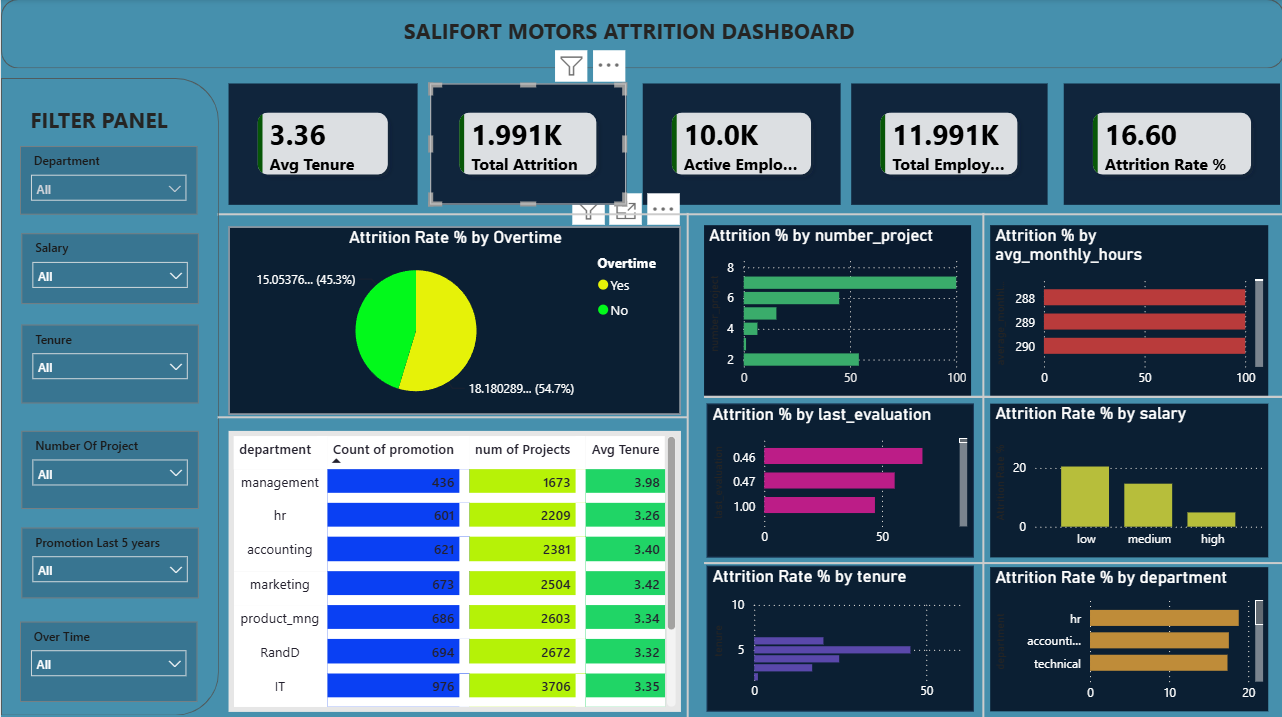

This screenshot's page, from the dashboard's own definition file:
{"tool":"powerbi","page":{"name":"Page 1","canvas":[1280,720],"ordinal":0},"visuals":[{"type":"cardVisual","fields":{"Data":["public Salifort Sales.Avg Tenure (Years)"]},"box":[227,84.3,189,121],"z":0},{"type":"cardVisual","fields":{"Data":["public Salifort Sales.Attrition Rate %"]},"box":[1060.3,84.3,216.1,121],"z":1000},{"type":"cardVisual","fields":{"Data":["public Salifort Sales.Total Attrition"]},"box":[428.2,84.3,195.8,121],"z":2000},{"type":"cardVisual","fields":{"Data":["public Salifort Sales.Active Employees"]},"box":[640.3,84.3,197.1,121],"z":3000},{"type":"cardVisual","fields":{"Data":["public Salifort Sales.Total Employees"]},"box":[848.3,84.3,195.8,121],"z":4000},{"type":"clusteredBarChart","fields":{"Category":["public Salifort Sales.department"],"Y":["public Salifort Sales.Attrition Rate %"]},"box":[986.9,566.9,277.3,144.1],"z":5000},{"type":"clusteredBarChart","title":"Attrition  % by number_project","fields":{"Y":["public Salifort Sales.Attrition Rate %"],"Category":["public Salifort Sales.number_project"]},"box":[701.5,225.7,266.4,171.3],"z":6000},{"type":"clusteredBarChart","title":"Attrition  % by avg_monthly_hours","fields":{"Category":["public Salifort Sales.average_monthly_hours"],"Y":["public Salifort Sales.Attrition Rate %"]},"box":[986.9,225.7,277.3,171.3],"z":7000},{"type":"columnChart","fields":{"Category":["public Salifort Sales.salary"],"Y":["public Salifort Sales.Attrition Rate %"]},"box":[986.9,403.7,277.3,153.6],"z":8000},{"type":"clusteredBarChart","fields":{"Y":["public Salifort Sales.Attrition Rate %"],"Category":["public Salifort Sales.tenure"]},"box":[704.2,565.5,266.4,145.5],"z":9000},{"type":"barChart","title":"Attrition % by last_evaluation","fields":{"Category":["public Salifort Sales.last_evaluation"],"Y":["public Salifort Sales.Attrition Rate %"]},"box":[704.2,403.7,266.4,153.6],"z":10000},{"type":"pieChart","fields":{"Category":["public Salifort Sales.Overtime"],"Y":["public Salifort Sales.Attrition Rate %"]},"box":[227,227,451.3,187.6],"z":11000},{"type":"shape","box":[216.1,195.8,1064.4,38.1],"z":12000},{"type":"shape","box":[678.3,213.4,13.6,507.1],"z":13000},{"type":"shape","box":[973.3,213.4,13.6,507.1],"z":14000},{"type":"shape","box":[701.5,379.3,579.1,35.3],"z":15000},{"type":"shape","box":[700.9,379.3,579.1,35.3],"z":16000},{"type":"shape","box":[701.5,545.1,579.1,35.3],"z":17000},{"type":"shape","box":[0,78.8,217.5,636.2],"z":18000},{"type":"shape","box":[216.1,403.7,469,27.2],"z":19000},{"type":"slicer","fields":{"Values":["public Salifort Sales.number_project"]},"box":[20.4,430.9,176.7,77.5],"z":20000},{"type":"slicer","fields":{"Values":["public Salifort Sales.department"]},"box":[19,146.8,176.7,68],"z":21000},{"type":"slicer","fields":{"Values":["public Salifort Sales.Overtime"]},"box":[19,621.3,176.7,80.2],"z":22000},{"type":"slicer","fields":{"Values":["public Salifort Sales.promotion_last_5years"]},"box":[20.4,527.5,176.7,70.7],"z":23000},{"type":"slicer","fields":{"Values":["public Salifort Sales.salary"]},"box":[20.4,233.8,176.7,70.7],"z":24000},{"type":"slicer","fields":{"Values":["public Salifort Sales.tenure"]},"box":[20.4,324.9,176.7,78.8],"z":25000},{"type":"pivotTable","title":"OUTLET TYPE","fields":{"Rows":["public Salifort Sales.department"],"Values":["CountNonNull(public Salifort Sales.promotion_last_5years)","Sum(public Salifort Sales.number_project)","public Salifort Sales.Avg Tenure (Years)"]},"box":[227,430.9,451.3,280],"z":26000},{"type":"textbox","box":[0,100.6,195.8,46.2],"z":27000},{"type":"shape","box":[0,0,1280.6,69.3],"z":28002},{"type":"textbox","box":[397.2,12.7,573.2,49.3],"z":28003}]}

Visuals, with their boxes in screenshot pixels (x1, y1, x2, y2), scaled from the page's 1280x720 canvas onto the 1282x717 screenshot:
cardVisual - public Salifort Sales.Avg Tenure (Years): 227, 84, 417, 204
cardVisual - public Salifort Sales.Attrition Rate %: 1062, 84, 1278, 204
cardVisual - public Salifort Sales.Total Attrition: 429, 84, 625, 204
cardVisual - public Salifort Sales.Active Employees: 641, 84, 839, 204
cardVisual - public Salifort Sales.Total Employees: 850, 84, 1046, 204
clusteredBarChart - public Salifort Sales.department x public Salifort Sales.Attrition Rate %: 988, 565, 1266, 708
"Attrition  % by number_project" clusteredBarChart: 703, 225, 969, 395
"Attrition  % by avg_monthly_hours" clusteredBarChart: 988, 225, 1266, 395
columnChart - public Salifort Sales.salary x public Salifort Sales.Attrition Rate %: 988, 402, 1266, 555
clusteredBarChart - public Salifort Sales.Attrition Rate % x public Salifort Sales.tenure: 705, 563, 972, 708
"Attrition % by last_evaluation" barChart: 705, 402, 972, 555
pieChart - public Salifort Sales.Overtime x public Salifort Sales.Attrition Rate %: 227, 226, 679, 413
shape: 216, 195, 1281, 233
shape: 679, 213, 693, 716
shape: 975, 213, 988, 716
shape: 703, 378, 1281, 413
shape: 702, 378, 1281, 413
shape: 703, 543, 1281, 578
shape: 0, 78, 218, 712
shape: 216, 402, 686, 429
slicer - public Salifort Sales.number_project: 20, 429, 197, 506
slicer - public Salifort Sales.department: 19, 146, 196, 214
slicer - public Salifort Sales.Overtime: 19, 619, 196, 699
slicer - public Salifort Sales.promotion_last_5years: 20, 525, 197, 596
slicer - public Salifort Sales.salary: 20, 233, 197, 303
slicer - public Salifort Sales.tenure: 20, 324, 197, 402
"OUTLET TYPE" pivotTable: 227, 429, 679, 708
textbox: 0, 100, 196, 146
shape: 0, 0, 1281, 69
textbox: 398, 13, 972, 62
